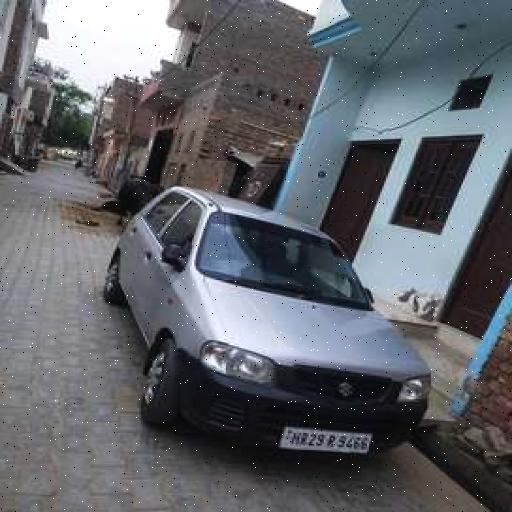license_plate`: (278, 424, 370, 454)
